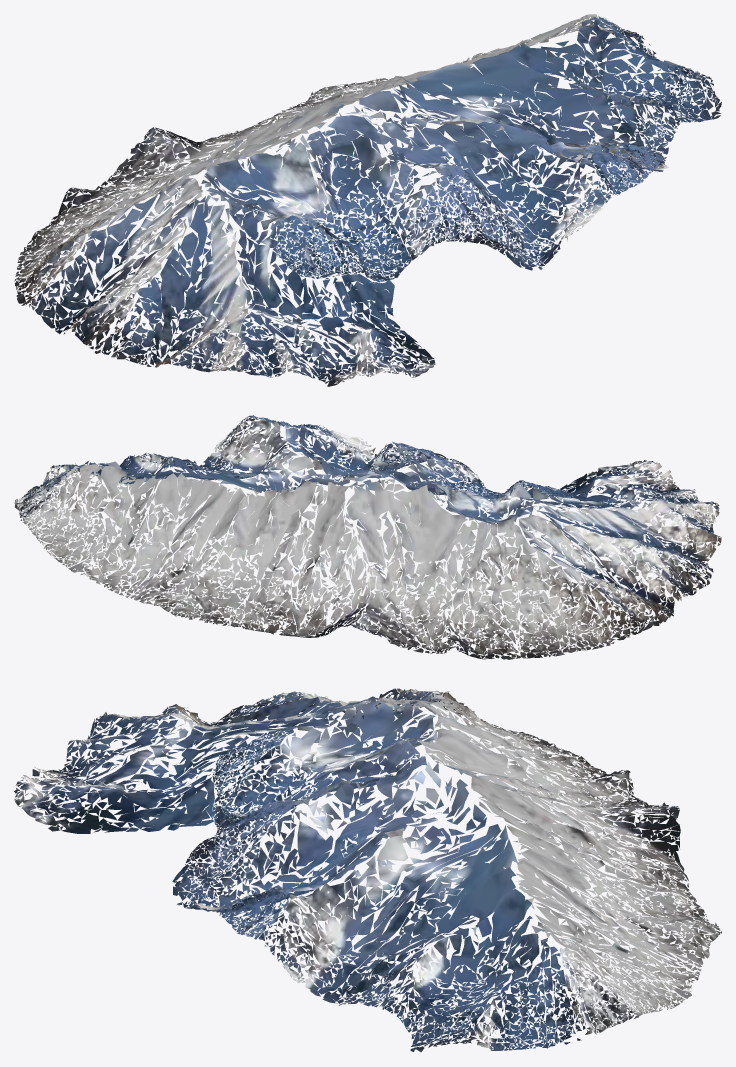
Rendered from timpanogos.glb.
3 views of the same model, one above another, from view 1: azimuth 30°, elevation 25°; view 2: azimuth 150°, elevation 25°; view 3: azimuth 270°, elevation 25° (orthographic). The views are drawn at different scales.
Visible parts, largest first — view 1: timpanogos; view 2: timpanogos; view 3: timpanogos.
Boxes of the visible parts, left/top/right/bottom form: timpanogos: left=14, top=14, right=721, bottom=386; timpanogos: left=14, top=415, right=721, bottom=659; timpanogos: left=14, top=688, right=721, bottom=1052.
Bounding box in the file's own units: 2663 × 417 × 2086.
1 material, 1 textured.
